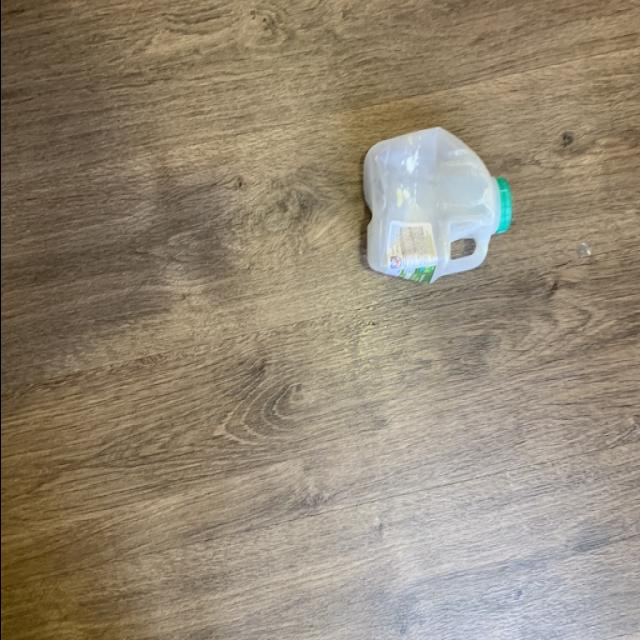HDPEM: (348, 118, 512, 290)
